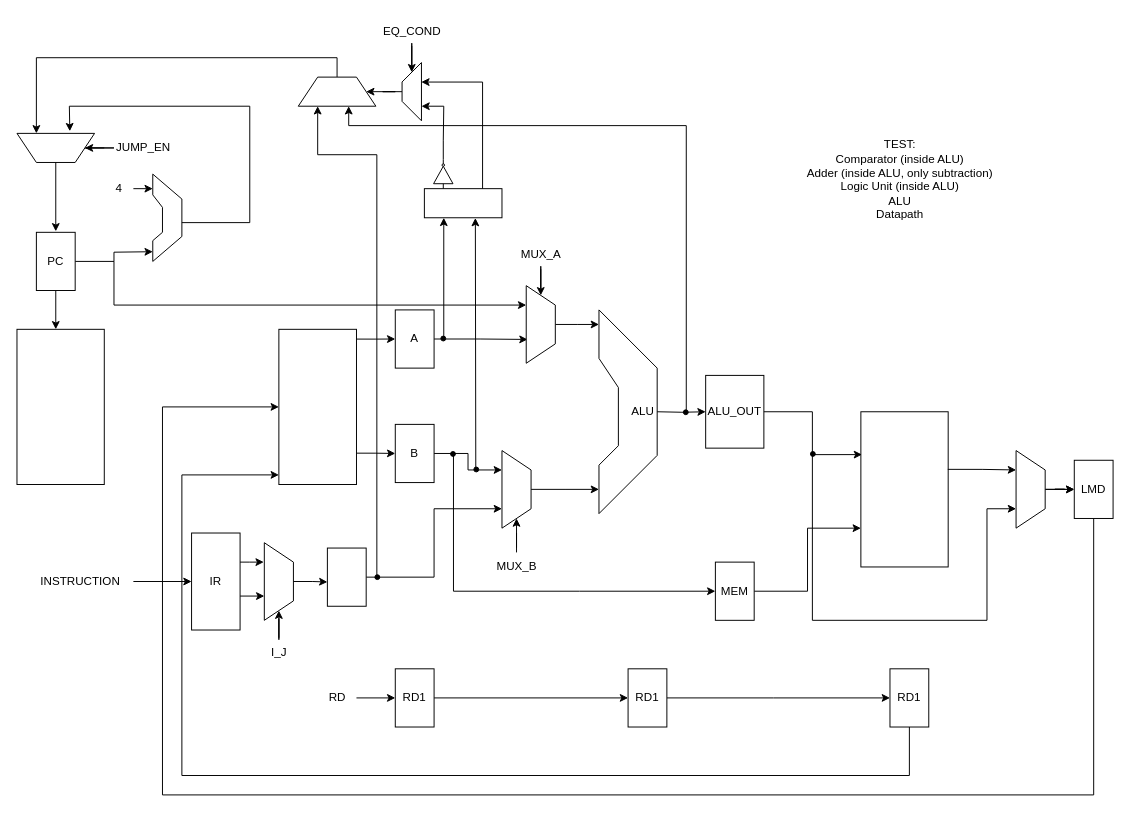
Some shapes in this 1130 by 820 pixel diagram are drawn without their labels. The shapes that lost their labels are listed below. From the top down, each one's box as (x1, y1, x2, y2) in pixels, then its label:
(423, 188, 502, 218): eq_checker
(16, 328, 104, 485): IRAM
(278, 328, 356, 485): RF
(860, 411, 948, 567): DRAM
(326, 547, 366, 606): IMM
